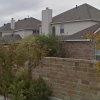Chimney: (37, 5, 61, 39)
